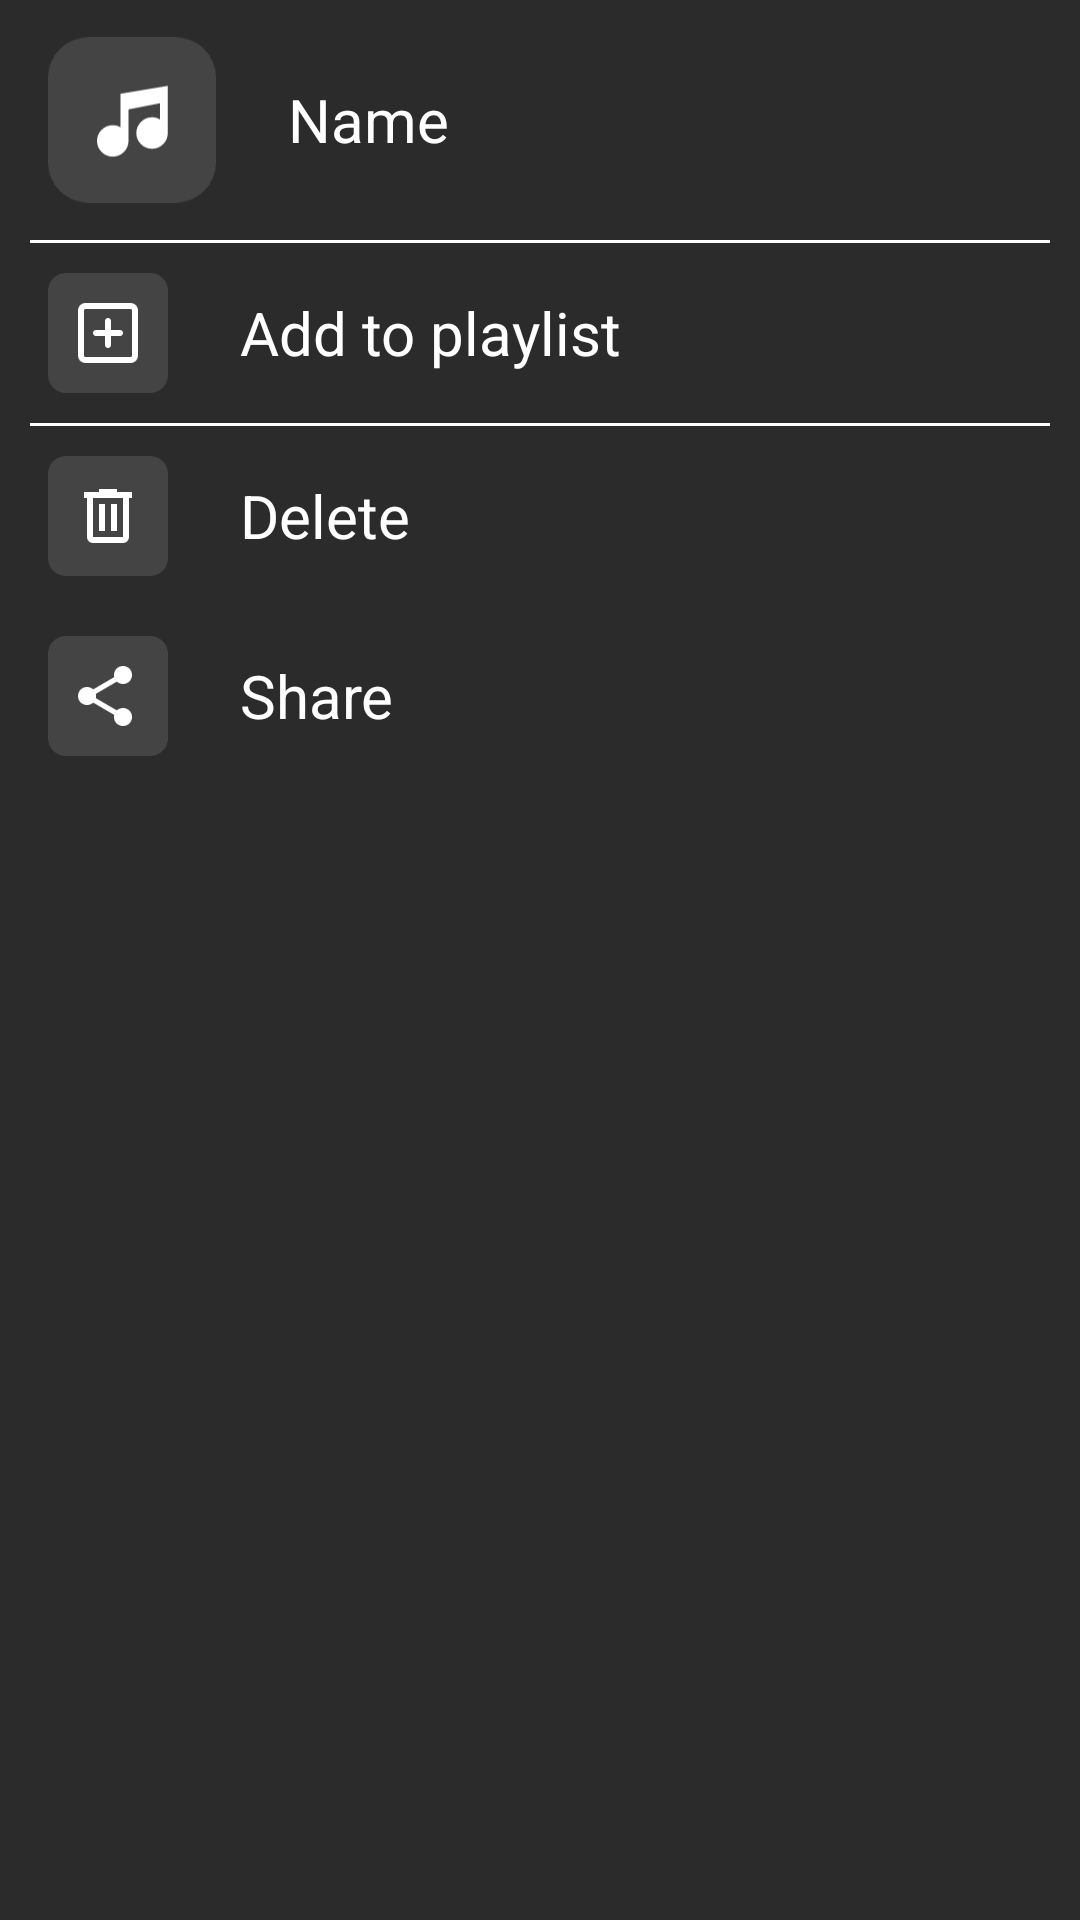

Point at icon controls on the screen. Image size 1080px x 1920px, points as point (x, y).
del music: point (108, 516)
